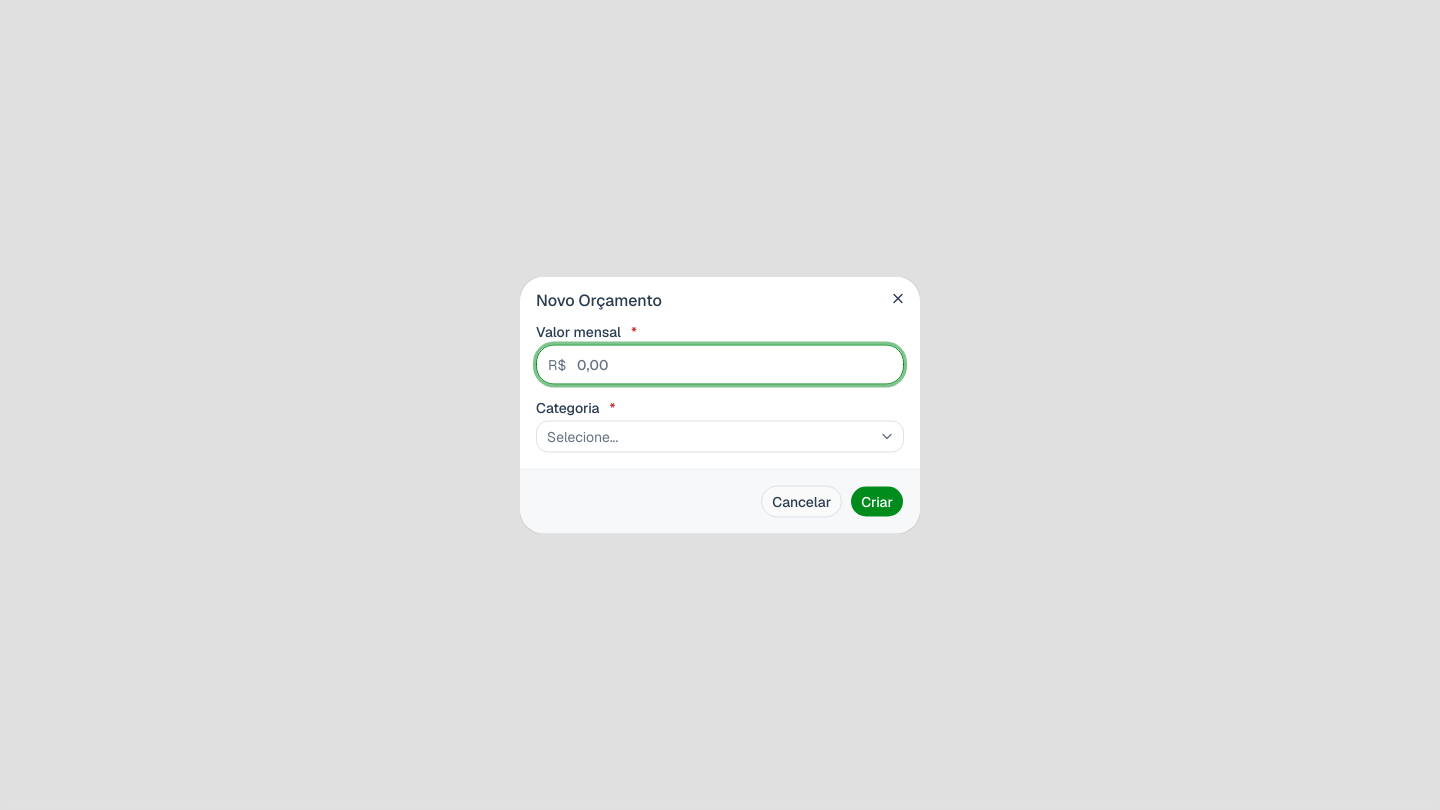
BudgetForm › mostra erros do schema ao salvar vazio
This screenshot has width=1440, height=810.
Click the button "Criar" at [877, 502], box top-left (850, 486), bottom-right (904, 518)
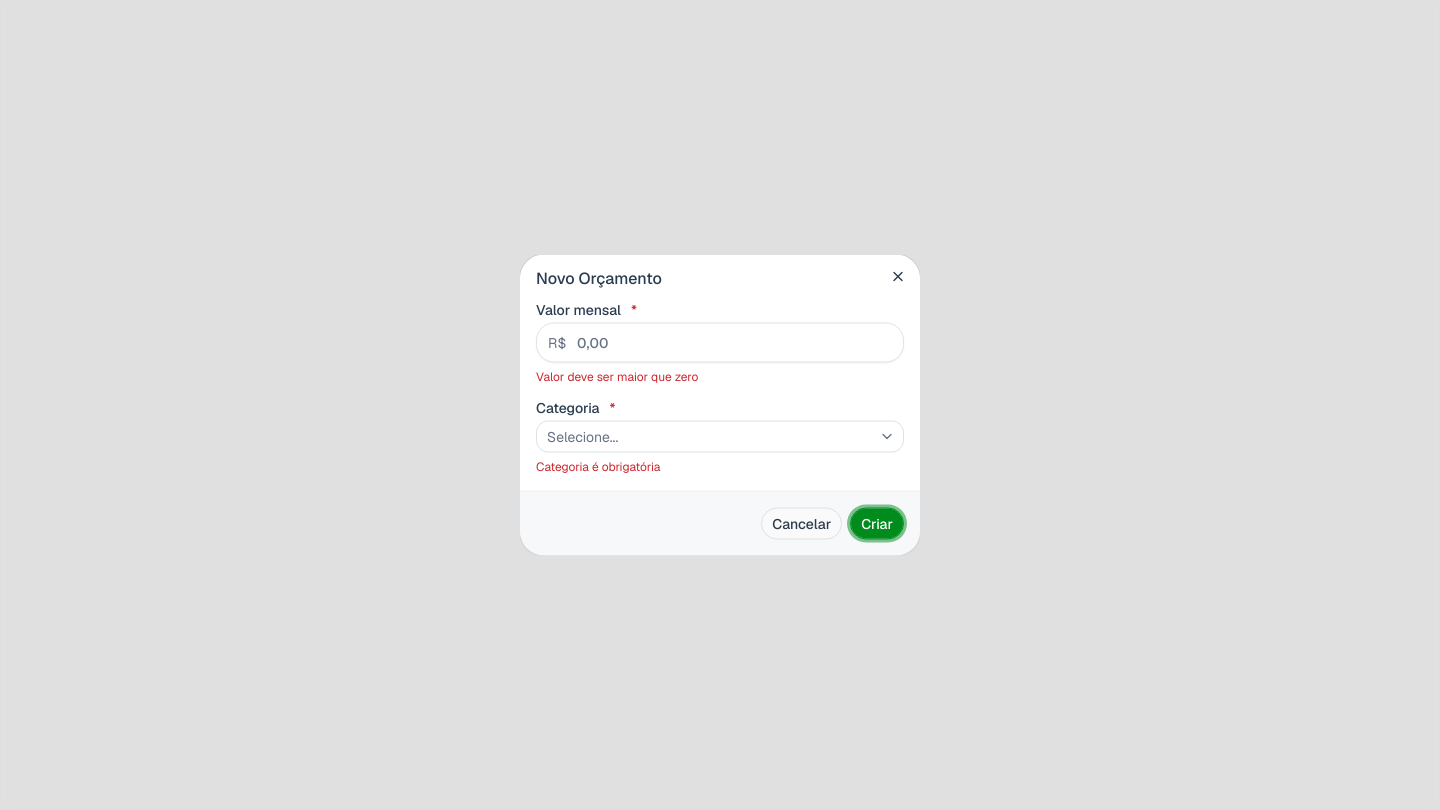
Expected: the text "Valor deve ser maior que zero" is shown, top-left (536, 368), bottom-right (698, 384)
Expected: the text "Categoria é obrigatória" is shown, top-left (536, 458), bottom-right (660, 474)
